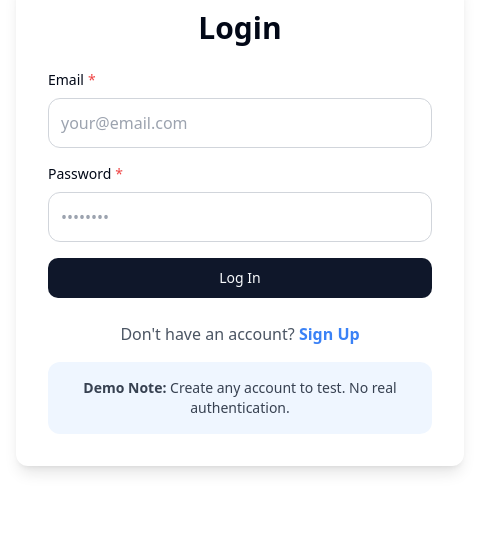
Test: LoginPage › Form Validation › shows error for invalid email format
Step 1. Type "invalid-email" into the field labelled "Email*" → (240, 123), box [48,98,432,148]
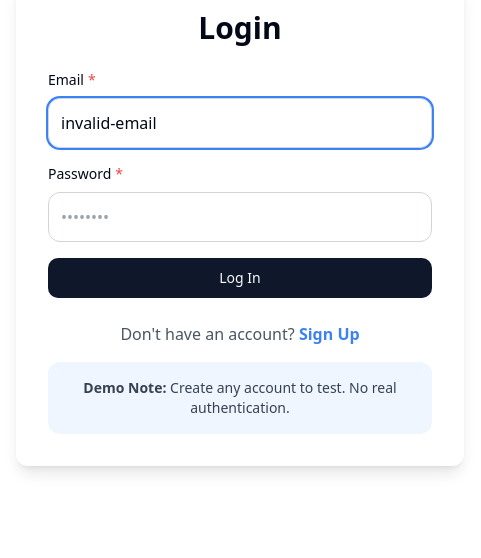
Step 2. Click the button "Log In" → (240, 278), box [48,258,432,298]
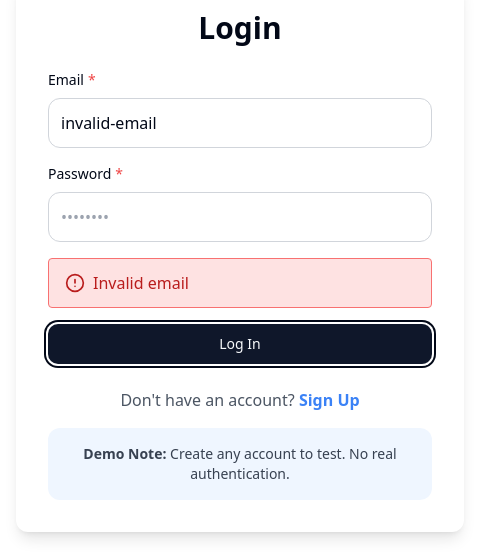
Expected: the text "Invalid email" is shown, [93,271,189,295]
